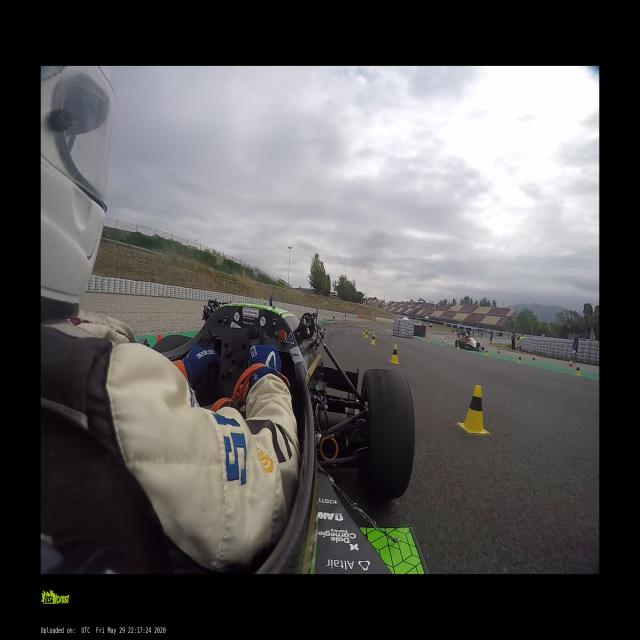orange_cone: (569, 359, 573, 368), (532, 353, 535, 360), (330, 321, 333, 327), (338, 322, 340, 326)
yellow_cone: (458, 385, 490, 434), (388, 344, 400, 364), (370, 334, 376, 346), (574, 364, 580, 376), (517, 355, 521, 363), (484, 349, 488, 357), (364, 329, 367, 338), (456, 344, 459, 349), (363, 328, 365, 334), (422, 337, 425, 341), (427, 338, 430, 342), (382, 329, 384, 334), (441, 340, 443, 345), (368, 329, 370, 333), (372, 328, 374, 332)
